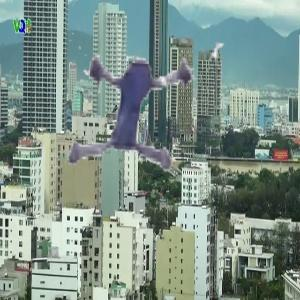drone: (41, 17, 222, 198)
